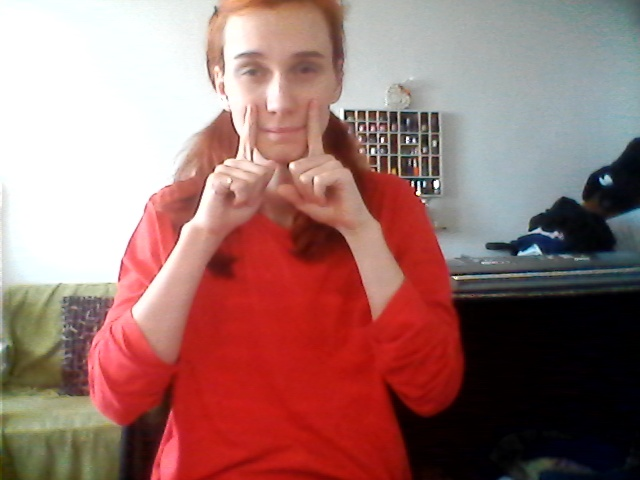h: (211, 99, 361, 226)
